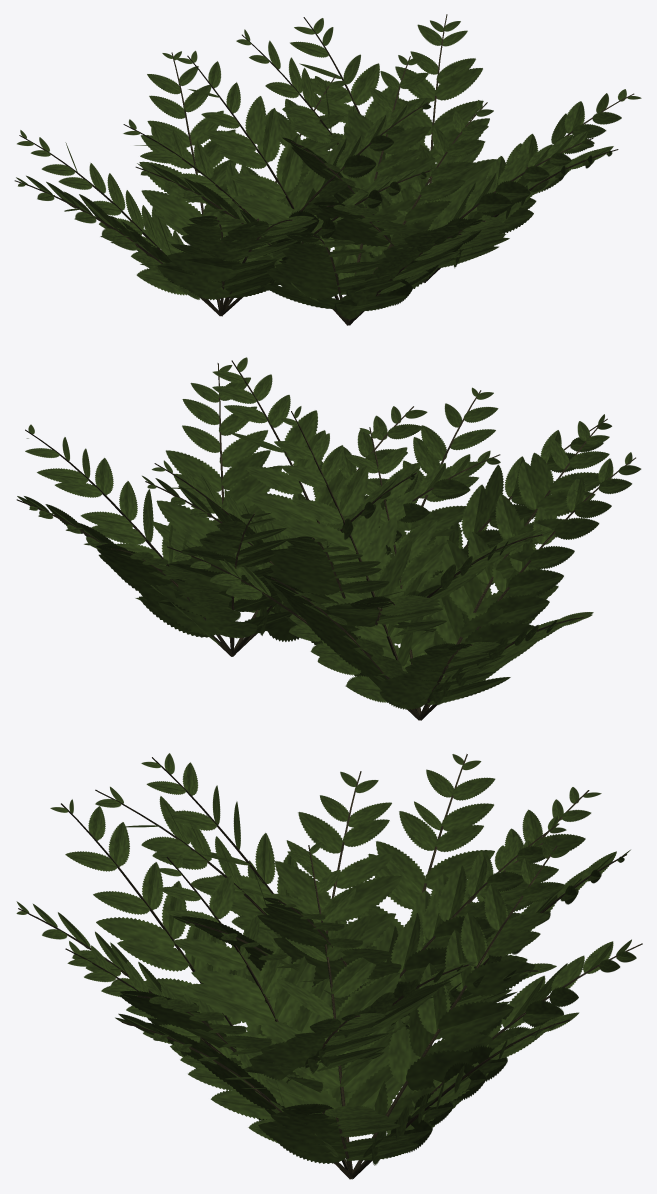
The model's file is rock_fern_v02.glb.
The picture shows the model from 3 angles, top to bottom: view 1: azimuth 30°, elevation 25°; view 2: azimuth 150°, elevation 25°; view 3: azimuth 270°, elevation 25°; orthographic projection. The views are drawn at different scales.
Parts seen in each view (by area): view 1: rock_fern_v02; view 2: rock_fern_v02; view 3: rock_fern_v02.
Boxes of the visible parts, left/top/right/bottom form: rock_fern_v02: left=14, top=14, right=641, bottom=325; rock_fern_v02: left=16, top=357, right=641, bottom=720; rock_fern_v02: left=16, top=753, right=642, bottom=1179.
Bounding box in the file's own units: 0.3972 × 0.1438 × 0.2994.
Materials: 2 (2 with a texture image).
